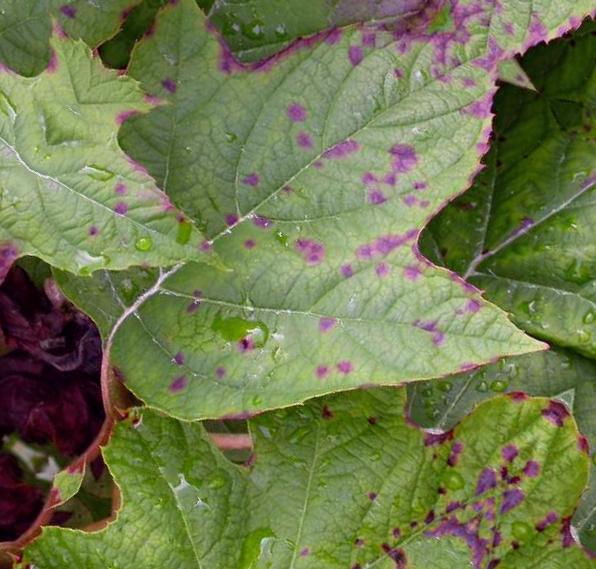Tomato leaf bacterial spot: (52, 0, 596, 569)
